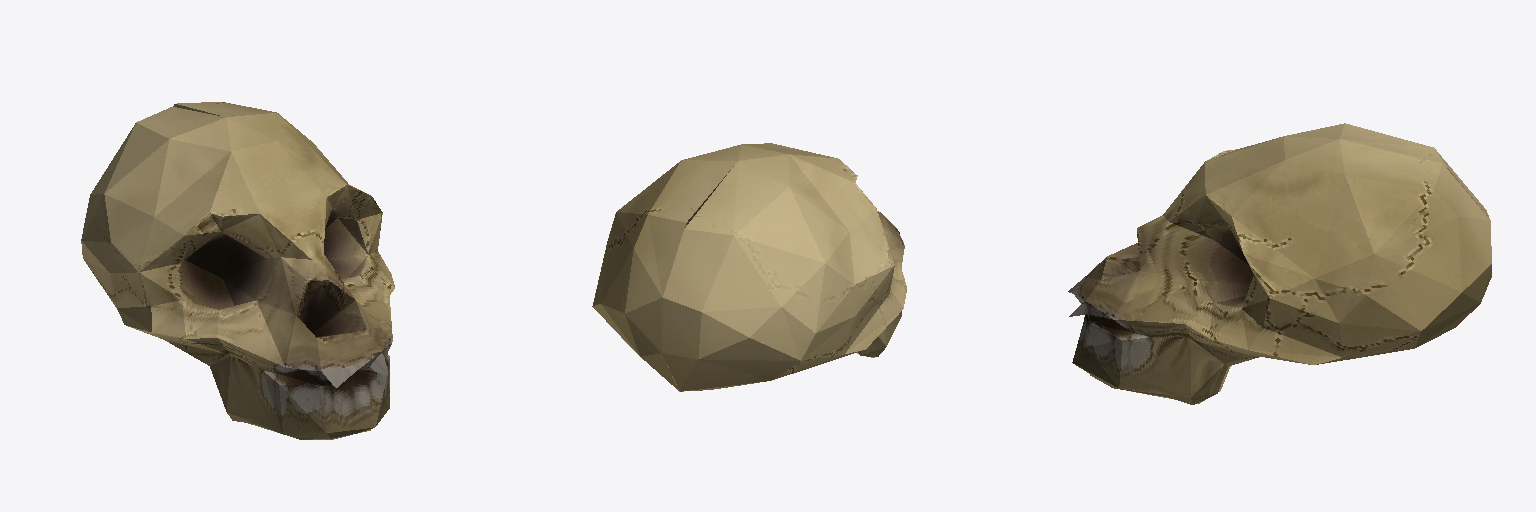
The picture shows the model from 3 angles: view 1: azimuth 30°, elevation 25°; view 2: azimuth 150°, elevation 25°; view 3: azimuth 270°, elevation 25°; orthographic projection.
Visible parts, largest first — view 1: defaultMaterial_defaultMaterial_skull_retopo_Default; view 2: defaultMaterial_defaultMaterial_skull_retopo_Default; view 3: defaultMaterial_defaultMaterial_skull_retopo_Default.
Boxes of the visible parts, x1=… form: defaultMaterial_defaultMaterial_skull_retopo_Default: x1=81, y1=102, x2=394, y2=439; defaultMaterial_defaultMaterial_skull_retopo_Default: x1=592, y1=143, x2=906, y2=391; defaultMaterial_defaultMaterial_skull_retopo_Default: x1=1068, y1=123, x2=1491, y2=404.
Bounding box in the file's own units: 0.4394 × 0.4029 × 0.6633.
Materials: 1 (1 with a texture image).